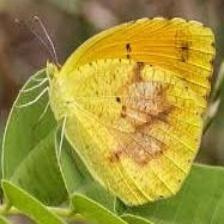butterfly: (47, 18, 216, 206)
